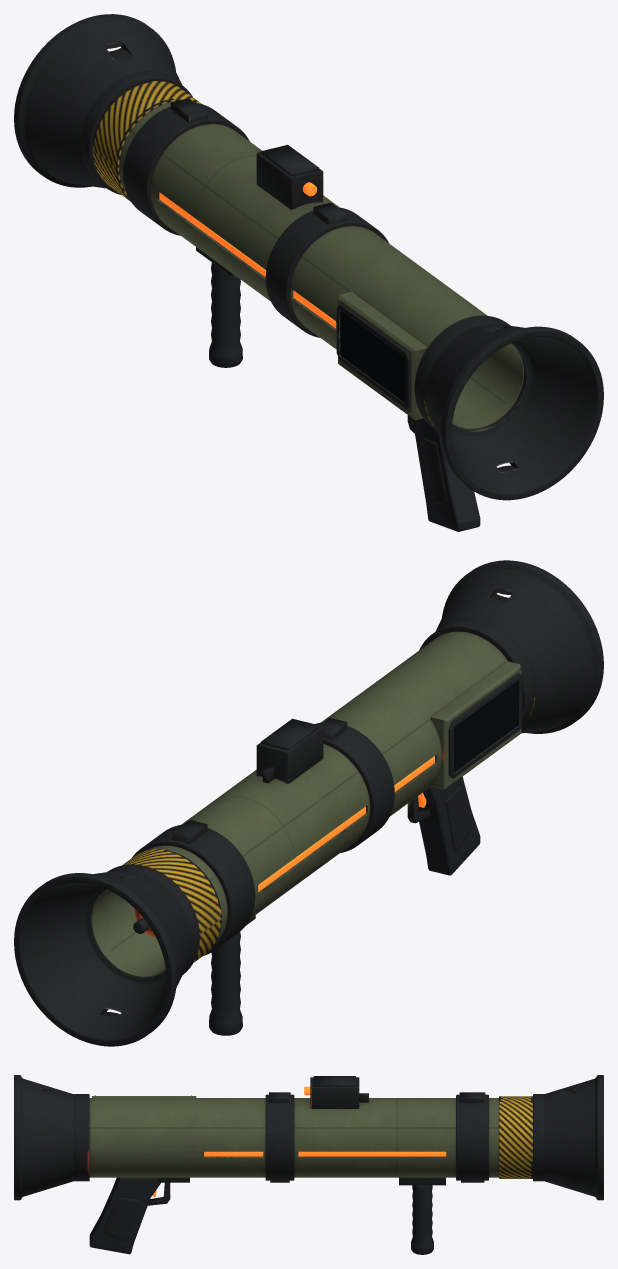
The model's file is rocket.glb.
3 renders of one model, top to bottom at view 1: azimuth 30°, elevation 25°; view 2: azimuth 150°, elevation 25°; view 3: azimuth 270°, elevation 25°, orthographic. The views are drawn at different scales.
Visible parts, largest first — view 1: body, battlestat_screen, battlestat_frame, accents; view 2: body, battlestat_screen, battlestat_frame, accents; view 3: body, accents.
Part boxes in pixels (x1=…): body: x1=14, y1=14, x2=603, y2=531; battlestat_screen: x1=340, y1=311, x2=405, y2=402; battlestat_frame: x1=336, y1=304, x2=410, y2=408; accents: x1=159, y1=182, x2=336, y2=328; body: x1=14, y1=560, x2=603, y2=1046; battlestat_screen: x1=454, y1=680, x2=518, y2=772; battlestat_frame: x1=448, y1=673, x2=522, y2=778; accents: x1=258, y1=756, x2=434, y2=892; body: x1=14, y1=1075, x2=603, y2=1254; accents: x1=152, y1=1086, x2=446, y2=1197.
Bounding box in the file's own units: 0.2136 × 0.3208 × 1.01.
Materials: 3 (1 with a texture image).
